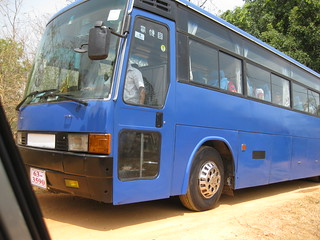bus: (15, 1, 320, 211)
